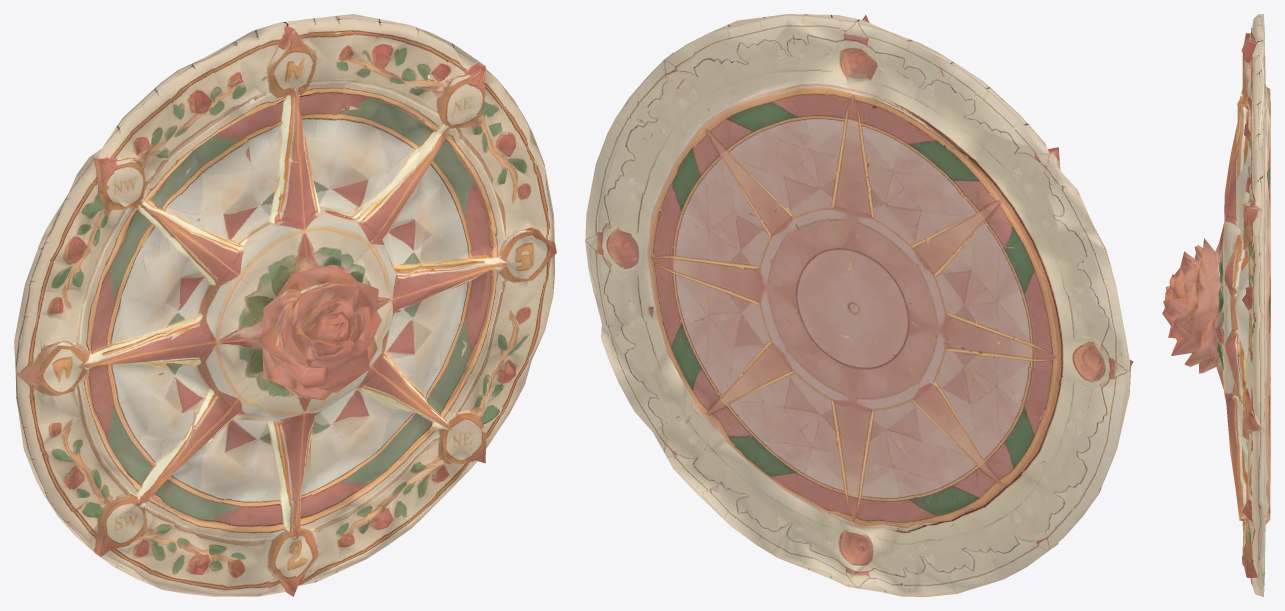
The model's file is rose-compass-plaza.glb.
3 renders of one model, left to right at view 1: azimuth 30°, elevation 25°; view 2: azimuth 150°, elevation 25°; view 3: azimuth 270°, elevation 25°, orthographic. The views are drawn at different scales.
Parts seen in each view (by area): view 1: Mesh_0.002; view 2: Mesh_0.002; view 3: Mesh_0.002.
Part boxes in pixels (x1,y1,x2,y2): Mesh_0.002: (14,14,556,596); Mesh_0.002: (585,14,1133,596); Mesh_0.002: (1162,14,1270,596).
Bounding box in the file's own units: 0.0399 × 0.04 × 0.00743.
1 material, 1 textured.
